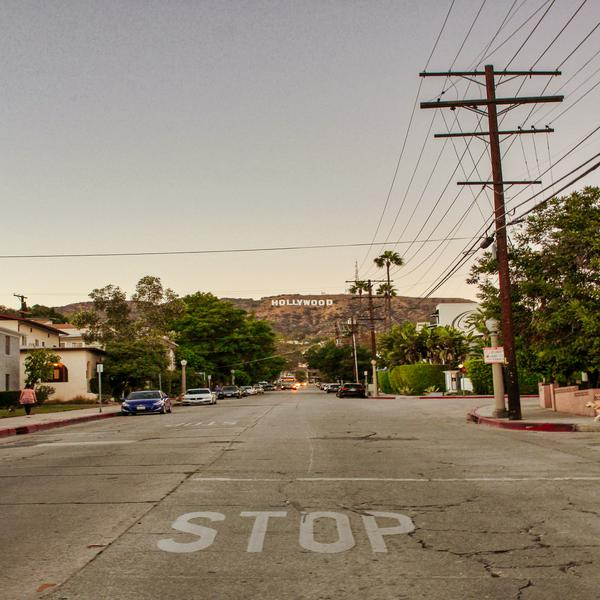utility_pole: (405, 45, 576, 205), (342, 271, 397, 331)
